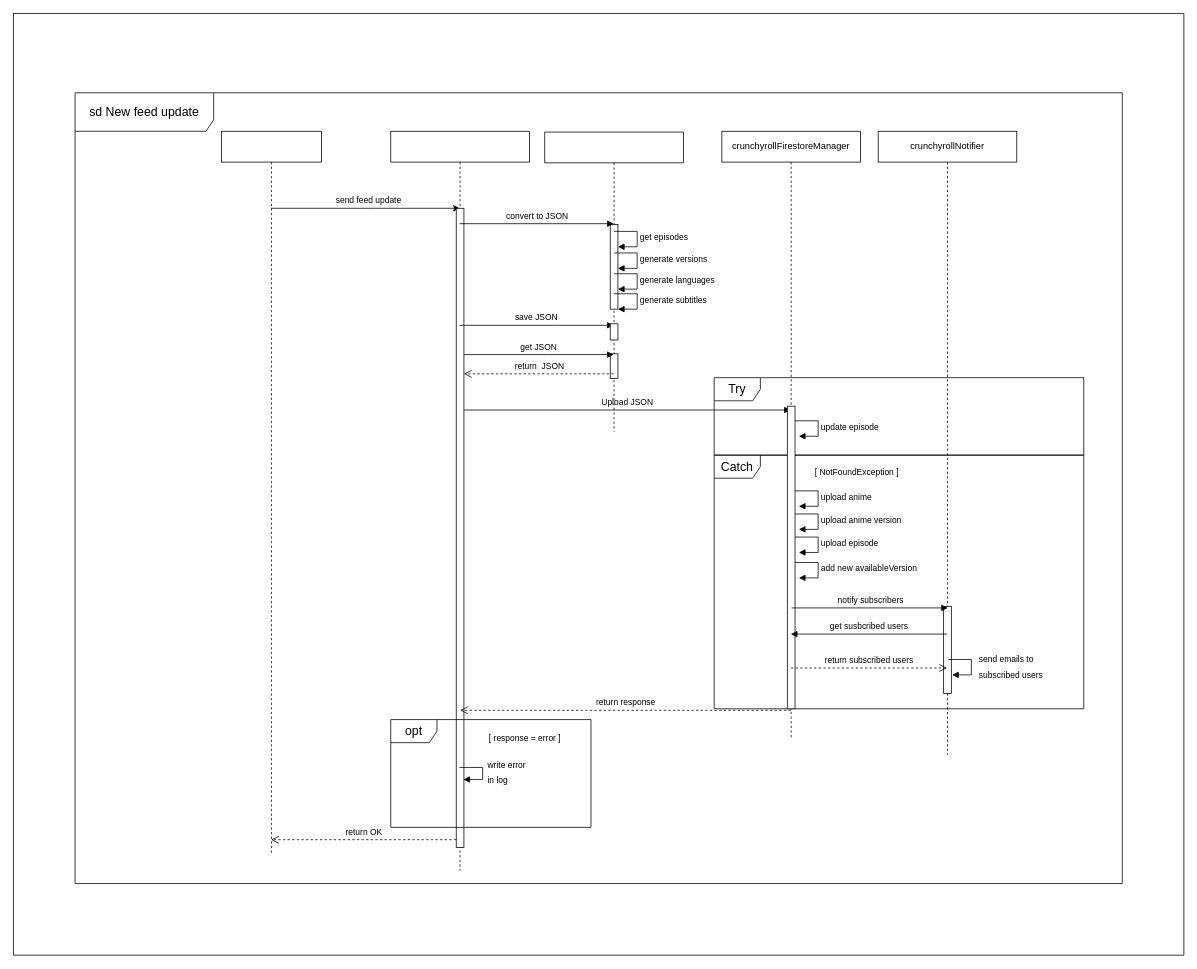
This 1197x969 diagram has some shape labels left out. Each missing label, with the box of its shape:
crunchyrollConversor: (544, 131, 683, 432)
crunchyrollSubscriber: (390, 131, 529, 870)
Google PubSubHubbub Hub: (221, 131, 321, 855)
